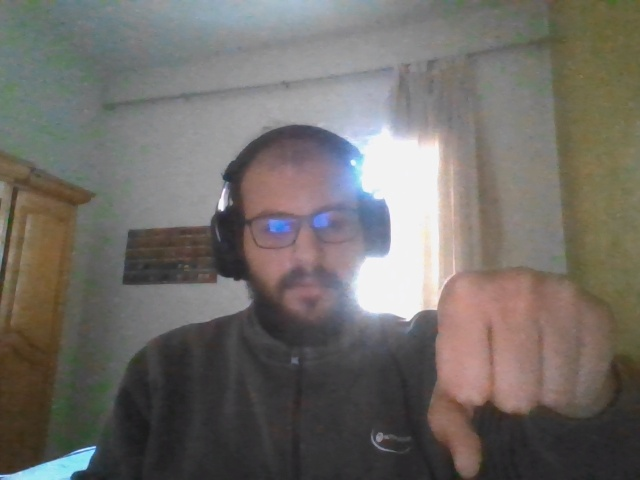Yes: (427, 270, 607, 477)
